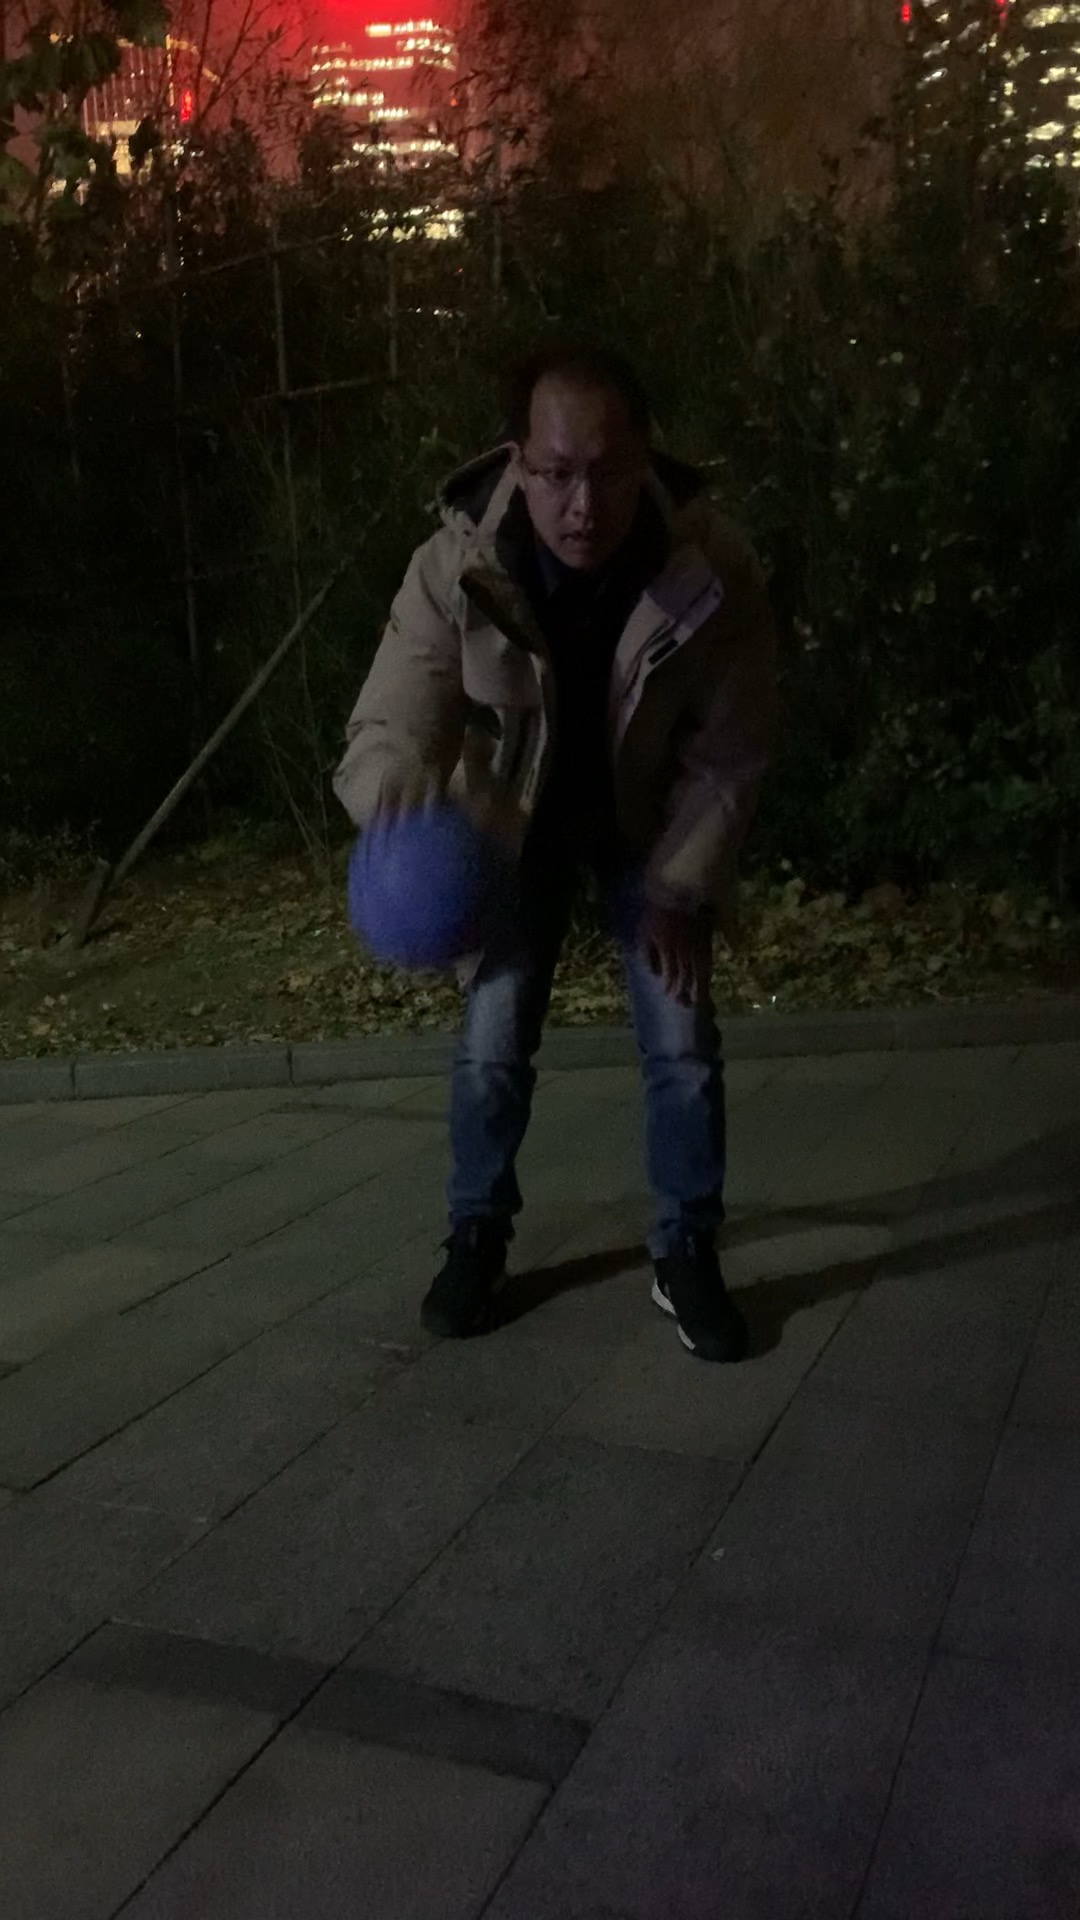ball: (356, 822, 498, 965)
